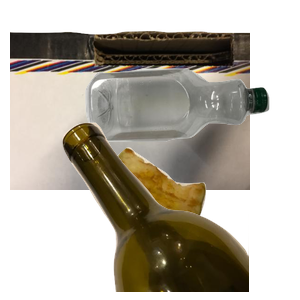cardboard: (10, 29, 250, 209)
glass: (60, 120, 300, 300)
plastic: (83, 66, 300, 201)
trash: (96, 145, 295, 300)
